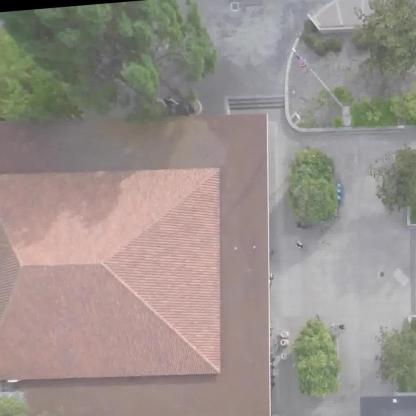Pedestrian: (295, 234, 307, 253), (337, 319, 350, 332)
